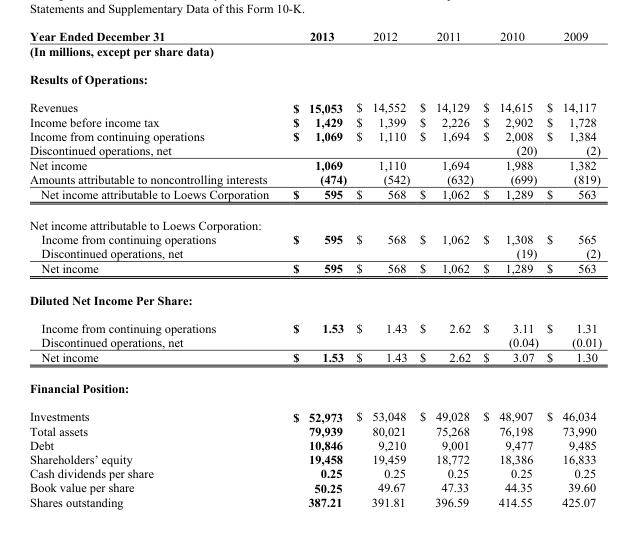table: (29, 28, 601, 508)
table column: (29, 28, 280, 508), (280, 28, 350, 508), (350, 28, 414, 508), (477, 28, 541, 508), (414, 28, 477, 508), (541, 28, 601, 508)
table column header: (29, 28, 601, 43)
table projected row header: (29, 283, 601, 313), (29, 372, 601, 402), (29, 64, 601, 93), (29, 209, 601, 232), (29, 43, 601, 64)
table row: (29, 283, 601, 313), (29, 372, 601, 402), (29, 64, 601, 93), (29, 186, 601, 209), (29, 209, 601, 232), (29, 260, 601, 283), (29, 349, 601, 372), (29, 43, 601, 64), (29, 93, 601, 114), (29, 313, 601, 334), (29, 402, 601, 423), (29, 28, 601, 43), (29, 142, 601, 157), (29, 171, 601, 186), (29, 334, 601, 349), (29, 451, 601, 466), (29, 114, 601, 128), (29, 128, 601, 142), (29, 157, 601, 171), (29, 232, 601, 246), (29, 246, 601, 260), (29, 423, 601, 437), (29, 437, 601, 451), (29, 466, 601, 480), (29, 480, 601, 494), (29, 494, 601, 508)
